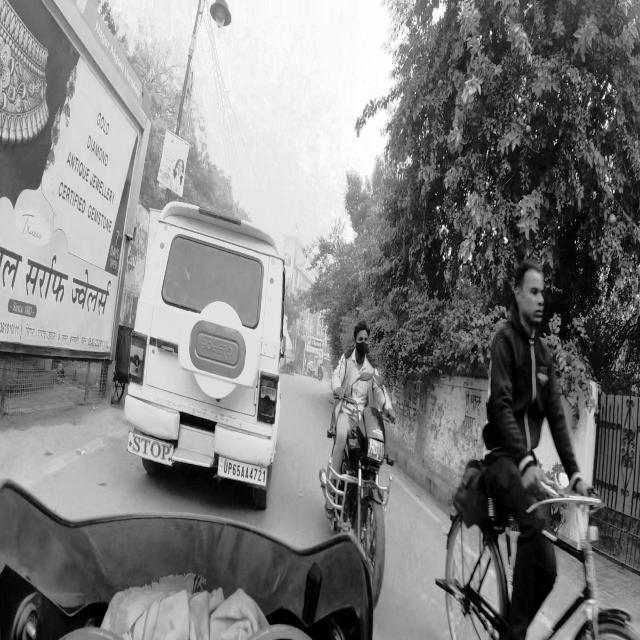Bike: (330, 318, 401, 608)
Car: (129, 185, 293, 516)
